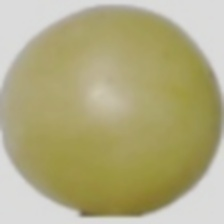grapes: (21, 10, 171, 210)
